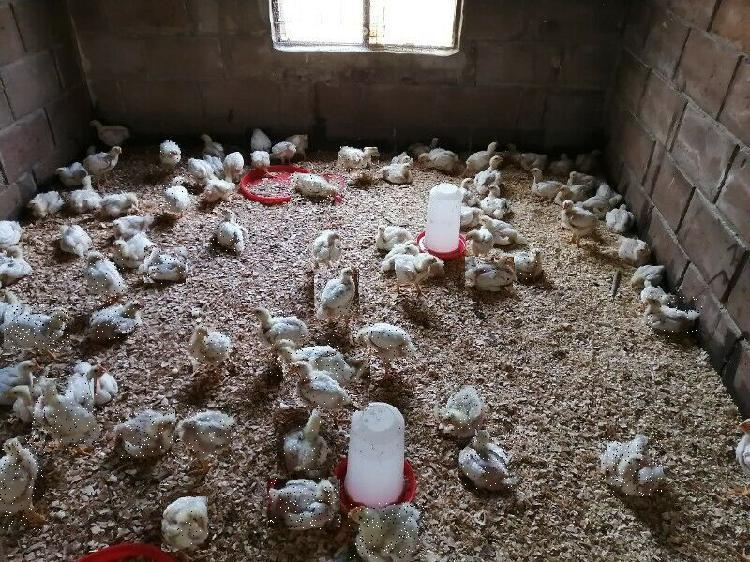chicken: (32, 375, 99, 450), (281, 358, 372, 409), (0, 435, 45, 530), (349, 503, 425, 559), (458, 425, 522, 490), (275, 408, 336, 474), (352, 324, 416, 385), (268, 478, 341, 529), (602, 436, 662, 496), (268, 334, 344, 381), (173, 405, 233, 461), (5, 305, 74, 352), (250, 298, 313, 349), (115, 404, 173, 458), (162, 496, 211, 552), (645, 296, 704, 338), (315, 268, 362, 320), (91, 296, 145, 339), (437, 386, 486, 433), (211, 208, 254, 257), (187, 325, 233, 366), (89, 249, 125, 301), (290, 174, 345, 205), (466, 258, 516, 290), (144, 246, 186, 284), (508, 247, 547, 281), (162, 172, 194, 213), (337, 147, 379, 176), (310, 231, 344, 263), (161, 140, 185, 167)
